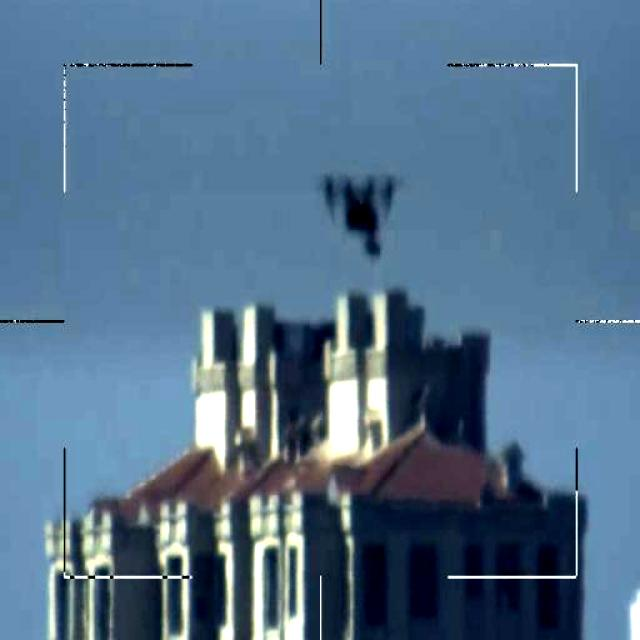bird: (315, 165, 401, 256)
